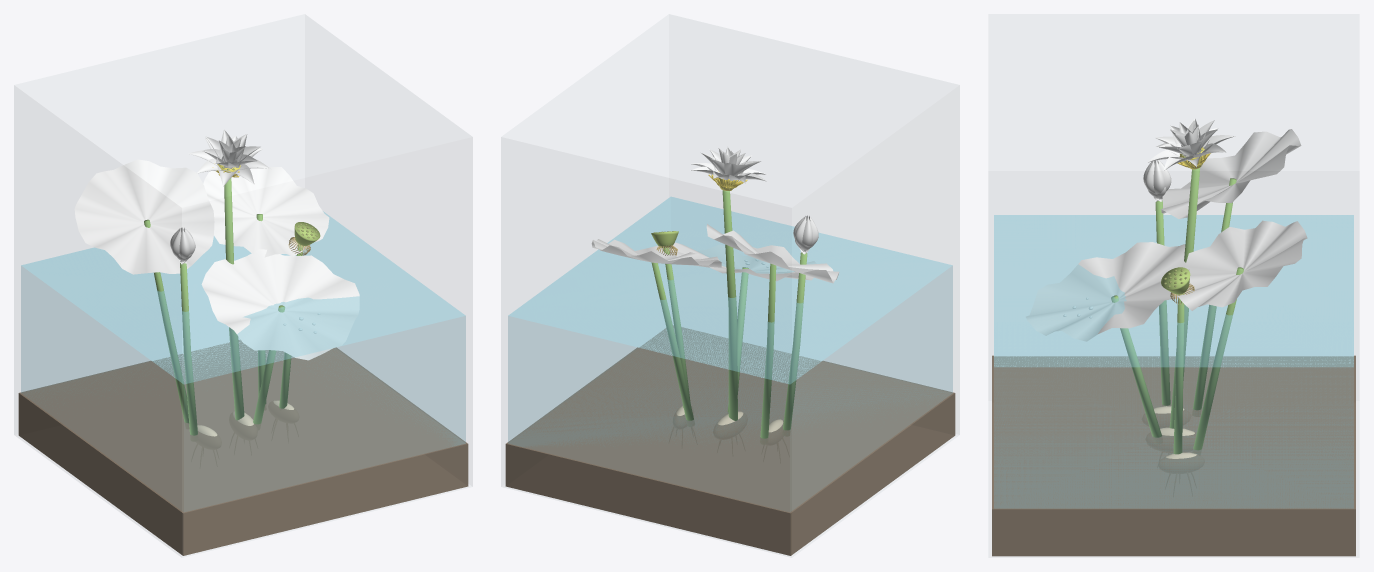
3 renders of one model, left to right at view 1: azimuth 30°, elevation 25°; view 2: azimuth 150°, elevation 25°; view 3: azimuth 270°, elevation 25°, orthographic. The views are drawn at different scales.
Parts seen in each view (by area): view 1: GlassBox, BottomMud, WaterBody, WaterSurface, FrontLotusLeaf, LeftBackLotusLeaf, RightBackLotusLeaf, BloomingLotus, MainFlowerStem, BudStem, LeftBackLeafStem, FrontLeafStem (+1 smaller); view 2: GlassBox, WaterBody, BottomMud, WaterSurface, MainFlowerStem, LeftBackLotusLeaf, BloomingLotus, FrontLotusLeaf, RightBackLotusLeaf, BudStem, LeftBackLeafStem, RightBackLeafStem (+3 smaller); view 3: GlassBox, WaterBody, BottomMud, WaterSurface, FrontLotusLeaf, RightBackLotusLeaf, LeftBackLotusLeaf, BloomingLotus, RightBackLeafStem, PodStem, BudStem, MainFlowerStem (+5 smaller).
Part boxes in pixels (x1,y1,x2,y2): GlassBox: (14,14,472,557); BottomMud: (18,340,468,555); WaterBody: (21,212,465,448); WaterSurface: (21,212,464,383); FrontLotusLeaf: (201,249,359,360); LeftBackLotusLeaf: (74,159,214,274); RightBackLotusLeaf: (203,167,329,257); BloomingLotus: (188,129,270,186); MainFlowerStem: (224,178,244,420); BudStem: (180,263,197,435); LeftBackLeafStem: (144,219,188,423); FrontLeafStem: (253,305,284,424); GlassBox: (501,14,959,557); WaterBody: (508,197,952,457); BottomMud: (505,325,955,555); WaterSurface: (509,197,952,383); MainFlowerStem: (722,190,737,420); LeftBackLotusLeaf: (706,224,839,283); BloomingLotus: (690,147,766,188); FrontLotusLeaf: (669,242,816,281); RightBackLotusLeaf: (591,239,721,267); BudStem: (783,252,807,430); LeftBackLeafStem: (760,263,776,438); RightBackLeafStem: (651,262,693,420); GlassBox: (988,14,1359,557); WaterBody: (994,215,1353,508); BottomMud: (992,355,1355,556); WaterSurface: (994,215,1353,366); FrontLotusLeaf: (1026,242,1189,341); RightBackLotusLeaf: (1175,220,1307,310); LeftBackLotusLeaf: (1161,129,1301,218); BloomingLotus: (1147,118,1234,170); RightBackLeafStem: (1193,267,1243,450); PodStem: (1173,293,1184,454); BudStem: (1155,200,1170,405); MainFlowerStem: (1169,168,1199,428).
Bounding box in the file's own units: 1 × 1.15 × 1.
